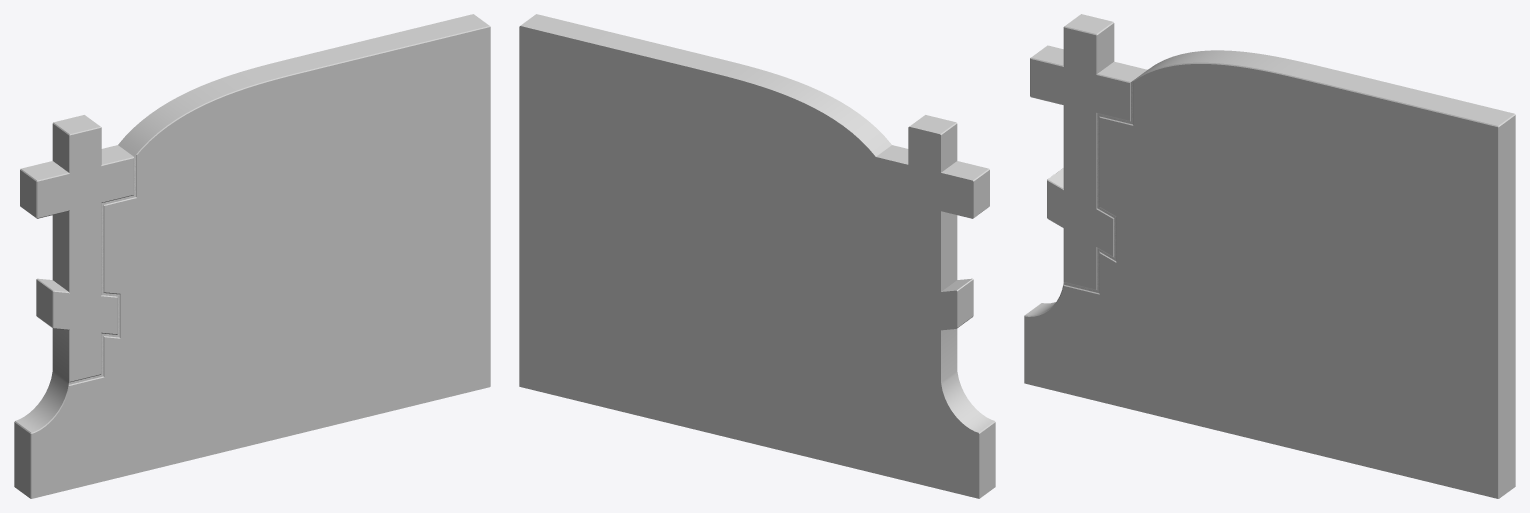
File: cn32c5b884af_tkf.glb
3 views of the same model, side by side, from view 1: azimuth 30°, elevation 25°; view 2: azimuth 150°, elevation 25°; view 3: azimuth 330°, elevation 25° (orthographic). The views are drawn at different scales.
Parts seen in each view (by area): view 1: Pam-g-116-1, Pam-g-116-1_2_notexture; view 2: Pam-g-116-1; view 3: Pam-g-116-1, Pam-g-116-1_2_notexture.
Boxes of the visible parts, bbox=[...] form: Pam-g-116-1: bbox=[14, 14, 490, 498]; Pam-g-116-1_2_notexture: bbox=[68, 155, 135, 384]; Pam-g-116-1: bbox=[519, 14, 995, 498]; Pam-g-116-1: bbox=[1024, 14, 1515, 498]; Pam-g-116-1_2_notexture: bbox=[1063, 81, 1132, 292].
Size of the model in its own units: 0.8 by 0.6 by 0.05.
Materials: 1 (1 with a texture image).
